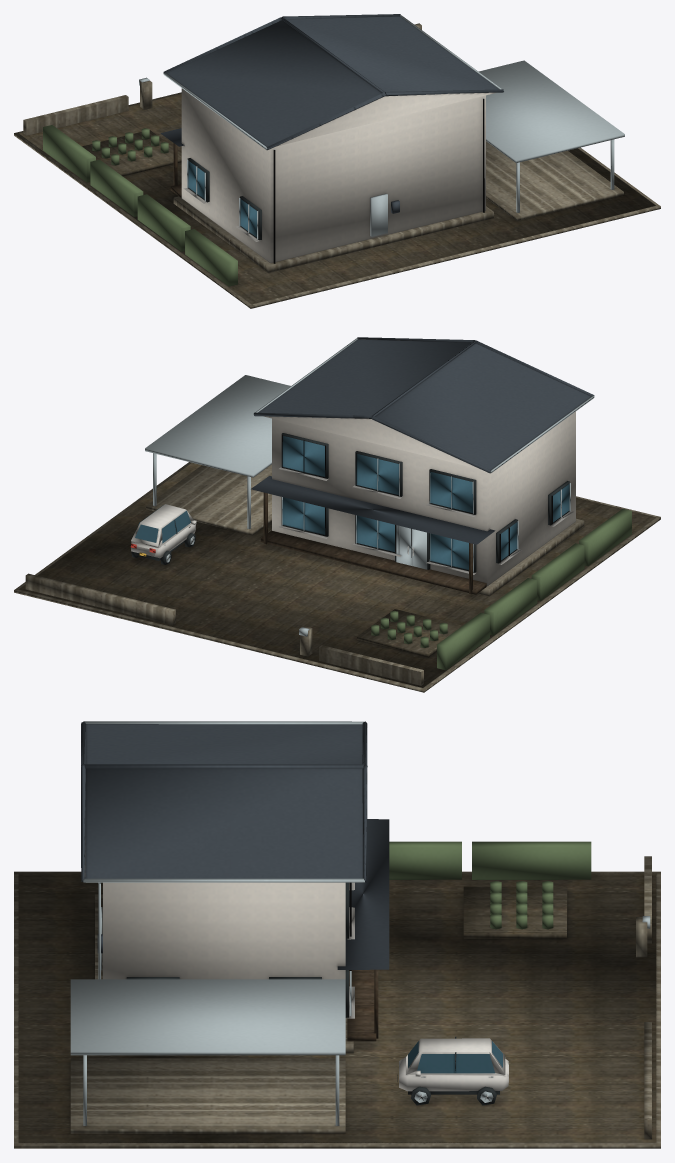
File: rural_house_003.obj
3 views of the same model, one above another, from view 1: azimuth 30°, elevation 25°; view 2: azimuth 150°, elevation 25°; view 3: azimuth 270°, elevation 25° (orthographic). The views are drawn at different scales.
Visible parts, largest first — view 1: rural_house_003; view 2: rural_house_003; view 3: rural_house_003.
Part boxes in pixels (x1=…): rural_house_003: x1=14, y1=14, x2=660, y2=308; rural_house_003: x1=14, y1=337, x2=660, y2=692; rural_house_003: x1=14, y1=721, x2=660, y2=1148.
Size of the model in its own units: 20 by 7.41 by 20.
1 material, 1 textured.
